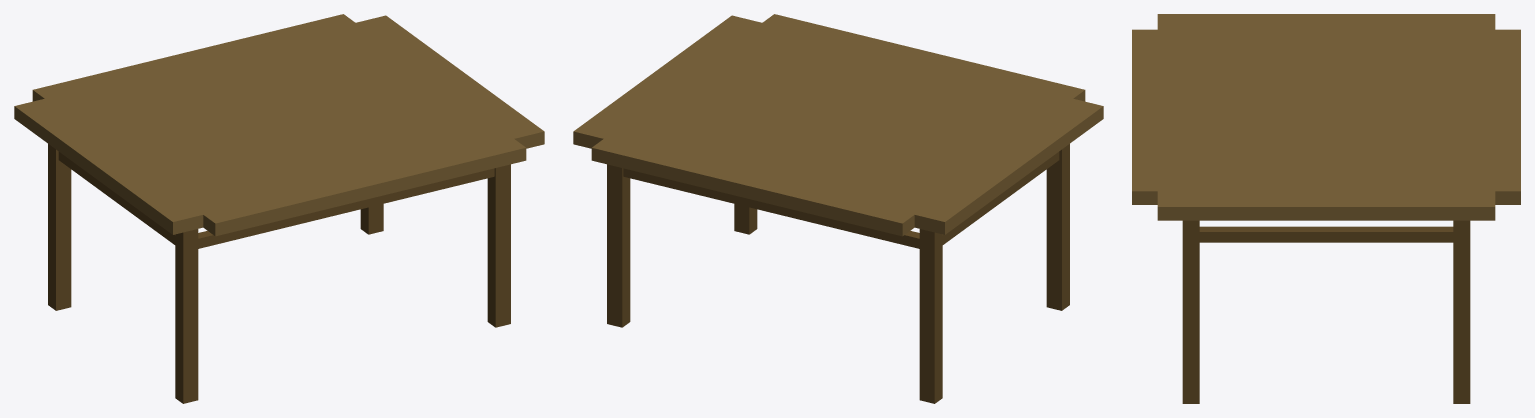
Rendered from table2.fbx.
3 views of the same model, side by side, from view 1: azimuth 30°, elevation 25°; view 2: azimuth 150°, elevation 25°; view 3: azimuth 270°, elevation 25° (orthographic). The views are drawn at different scales.
Parts seen in each view (by area): view 1: table4; view 2: table4; view 3: table4.
Boxes of the visible parts, left/top/right/bottom form: table4: left=14, top=14, right=544, bottom=403; table4: left=573, top=14, right=1103, bottom=403; table4: left=1132, top=14, right=1520, bottom=403.
Size of the model in its own units: 366 by 184 by 312.
